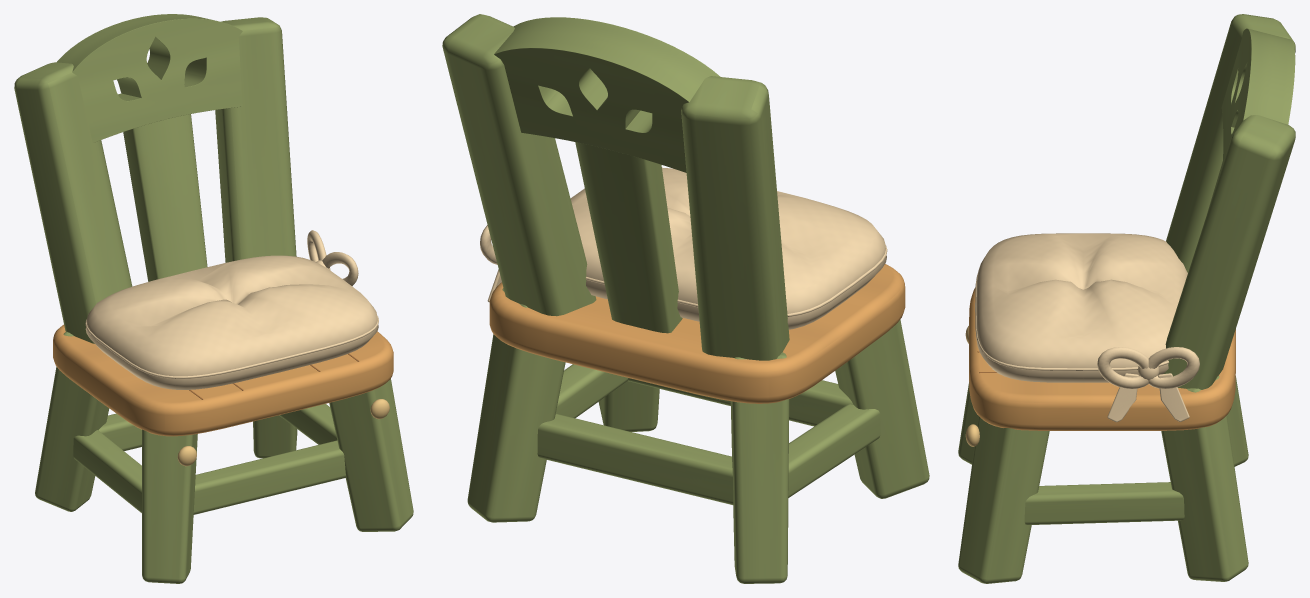
The model's file is a03_dining_chair.glb.
3 renders of one model, left to right at view 1: azimuth 30°, elevation 25°; view 2: azimuth 150°, elevation 25°; view 3: azimuth 270°, elevation 25°, orthographic. The views are drawn at different scales.
Visible parts, largest first — view 1: One continuous four-panel cushion, Rounded back upright, Arched crest | true leaf apertures, Thick honey wood seat, Rounded back upright.001, Centered wide back slat, Splayed front leg.001, Splayed front leg, Splayed rear leg, Cross stretcher, Side stretcher, Splayed rear leg.001 (+4 smaller); view 2: Rounded back upright, Thick honey wood seat, Rounded back upright.001, Arched crest | true leaf apertures, One continuous four-panel cushion, Centered wide back slat, Splayed rear leg.001, Splayed rear leg, Cross stretcher.001, Splayed front leg, Side stretcher, Splayed front leg.001 (+2 smaller); view 3: One continuous four-panel cushion, Rounded back upright.001, Thick honey wood seat, Splayed front leg.001, Splayed rear leg.001, Rounded back upright, Side stretcher.001, Arched crest | true leaf apertures, Open fabric bow loop, Open fabric bow loop.001, Splayed rear leg, Splayed front leg (+3 smaller).
Part boxes in pixels (x1,y1,x2,y2): One continuous four-panel cushion: (85,255,378,389); Rounded back upright: (14,62,132,343); Arched crest | true leaf apertures: (57,14,242,142); Thick honey wood seat: (53,324,393,436); Rounded back upright.001: (215,17,296,262); Centered wide back slat: (123,114,207,281); Splayed front leg.001: (329,379,413,531); Splayed front leg: (142,429,197,583); Splayed rear leg: (35,331,109,511); Cross stretcher: (193,440,345,514); Side stretcher: (73,430,141,512); Splayed rear leg.001: (253,415,297,458); Rounded back upright: (681,76,789,360); Thick honey wood seat: (489,264,905,403); Rounded back upright.001: (442,14,596,316); Arched crest | true leaf apertures: (494,17,720,172); One continuous four-panel cushion: (570,167,886,329); Centered wide back slat: (575,142,682,333); Splayed rear leg.001: (467,288,565,522); Splayed rear leg: (730,352,789,583); Cross stretcher.001: (537,413,733,504); Splayed front leg: (835,319,929,498); Side stretcher: (788,404,880,497); Splayed front leg.001: (598,381,659,431); One continuous four-panel cushion: (976,233,1187,382); Rounded back upright.001: (1163,115,1295,389); Thick honey wood seat: (969,288,1235,430); Splayed front leg.001: (958,416,1049,583); Splayed rear leg.001: (1161,376,1248,581); Rounded back upright: (1166,14,1295,272); Side stretcher.001: (1024,482,1184,524); Arched crest | true leaf apertures: (1221,28,1295,164); Open fabric bow loop: (1097,347,1148,388); Open fabric bow loop.001: (1148,347,1199,388); Splayed rear leg: (1227,376,1248,466); Splayed front leg: (958,382,978,464).
Size of the model in its own units: 0.6745 by 1.06 by 0.682.
Materials: 5 (4 with a texture image).
